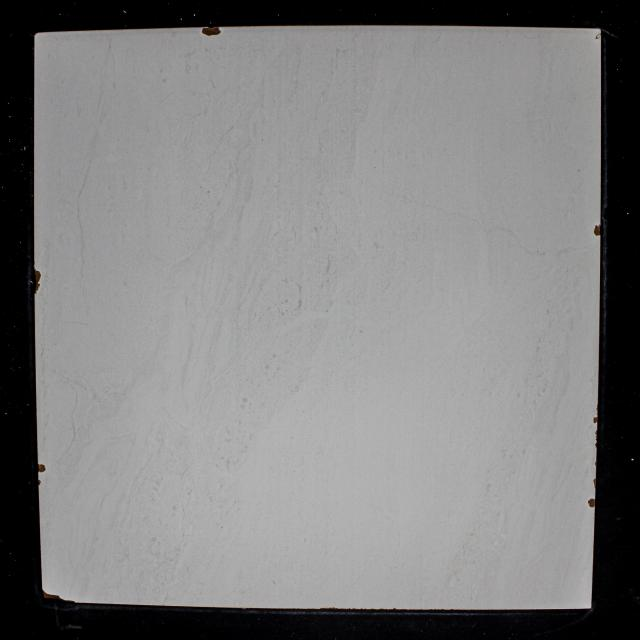edge-chipping: (202, 26, 222, 36), (42, 591, 60, 602), (34, 269, 41, 294), (593, 224, 601, 237), (60, 598, 75, 604), (38, 463, 46, 473), (588, 498, 595, 508), (592, 416, 598, 424), (595, 429, 598, 442), (593, 478, 596, 489), (594, 442, 598, 448)
